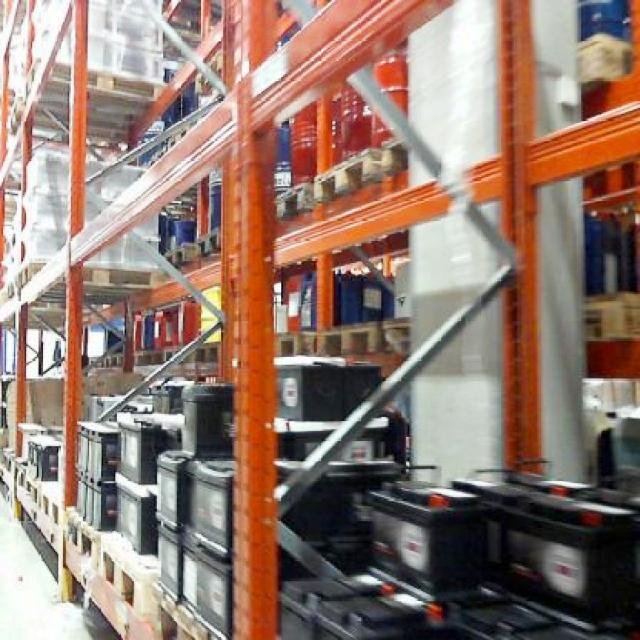ground: (0, 476, 138, 637)
pallet: (0, 422, 231, 638)
